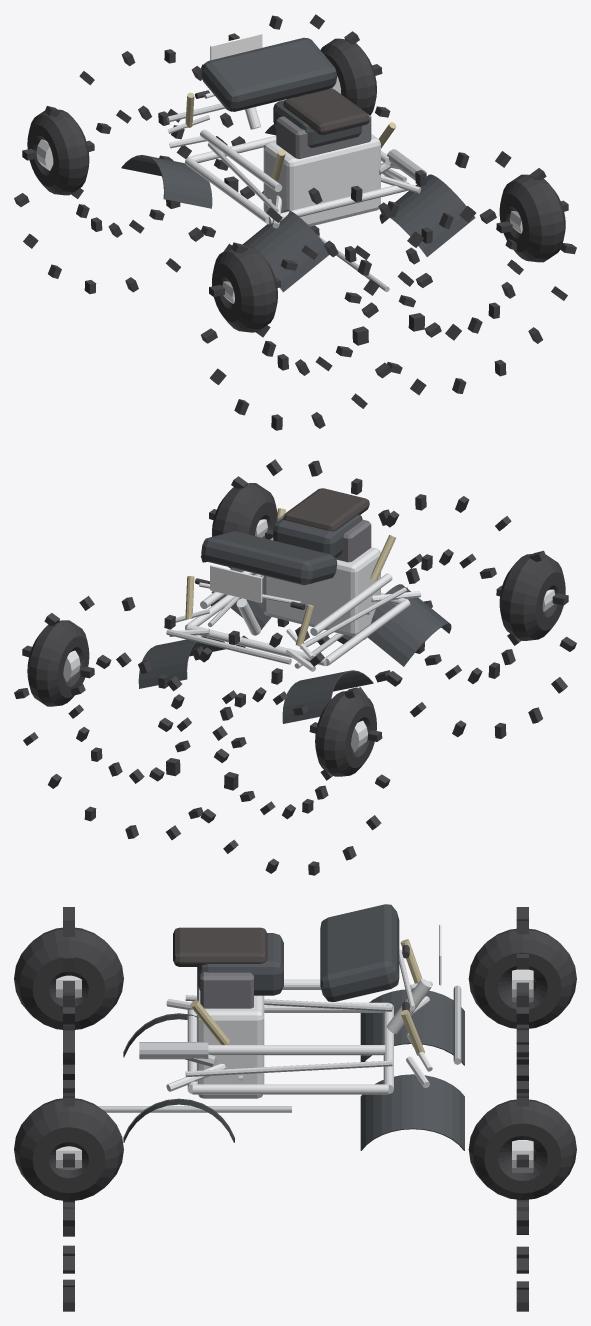
The model's file is atvopen.glb.
The picture shows the model from 3 angles, top to bottom: view 1: azimuth 30°, elevation 25°; view 2: azimuth 150°, elevation 25°; view 3: azimuth 270°, elevation 25°; orthographic projection. The views are drawn at different scales.
Visible parts, largest first — view 1: b_hood, b_engine, b_wheel_rr_tire, b_wheel_rl_tire, b_wheel_fl_tire, b_rfender_1, b_rfender_-1, b_seat, b_wheel_fr_tire, b_ffender_-1, b_wheel_rr, b_wheel_rl (+10 smaller); view 2: b_engine, b_hood, b_wheel_rl_tire, b_wheel_fr_tire, b_wheel_fl_tire, b_rfender_-1, b_wheel_rr_tire, b_seat, b_ffender_-1, b_wheel_fr, b_wheel_fl, b_ffender_1 (+10 smaller); view 3: b_wheel_rr_tire, b_wheel_fr_tire, b_wheel_rl_tire, b_wheel_fl_tire, b_hood, b_ffender_1, b_engine, b_ffender_-1, b_seat, b_rail_1, b_wheel_fr, b_wheel_rr (+14 smaller).
Part boxes in pixels (<box>): b_hood: <box>201,37,337,111</box>; b_engine: <box>263,134,380,226</box>; b_wheel_rr_tire: <box>499,174,565,262</box>; b_wheel_rl_tire: <box>212,245,277,332</box>; b_wheel_fl_tire: <box>27,109,89,195</box>; b_rfender_1: <box>379,174,475,256</box>; b_rfender_-1: <box>243,209,329,292</box>; b_seat: <box>283,89,369,134</box>; b_wheel_fr_tire: <box>320,38,376,115</box>; b_ffender_-1: <box>121,155,212,208</box>; b_wheel_rr: <box>344,151,576,395</box>; b_wheel_rl: <box>256,240,379,375</box>; b_engine: <box>263,540,380,636</box>; b_hood: <box>201,531,337,585</box>; b_wheel_rl_tire: <box>499,554,565,640</box>; b_wheel_fr_tire: <box>27,620,89,706</box>; b_wheel_fl_tire: <box>315,691,376,776</box>; b_rfender_-1: <box>367,584,451,666</box>; b_wheel_rr_tire: <box>212,483,277,568</box>; b_seat: <box>283,488,369,531</box>; b_ffender_-1: <box>282,670,373,723</box>; b_wheel_fr: <box>14,596,246,839</box>; b_wheel_fl: <box>212,687,333,819</box>; b_ffender_1: <box>138,635,225,688</box>; b_wheel_rr_tire: <box>14,1097,123,1201</box>; b_wheel_fr_tire: <box>468,1099,576,1200</box>; b_wheel_rl_tire: <box>14,927,123,1029</box>; b_wheel_fl_tire: <box>468,928,576,1028</box>; b_hood: <box>320,904,399,1001</box>; b_ffender_1: <box>360,1074,464,1150</box>; b_engine: <box>197,967,264,1098</box>; b_ffender_-1: <box>360,989,464,1065</box>; b_seat: <box>173,927,267,966</box>; b_rail_1: <box>192,1084,388,1094</box>; b_wheel_fr: <box>516,992,528,1311</box>; b_wheel_rr: <box>63,992,74,1311</box>.
Size of the model in its own units: 3.03 by 2.06 by 3.28.
